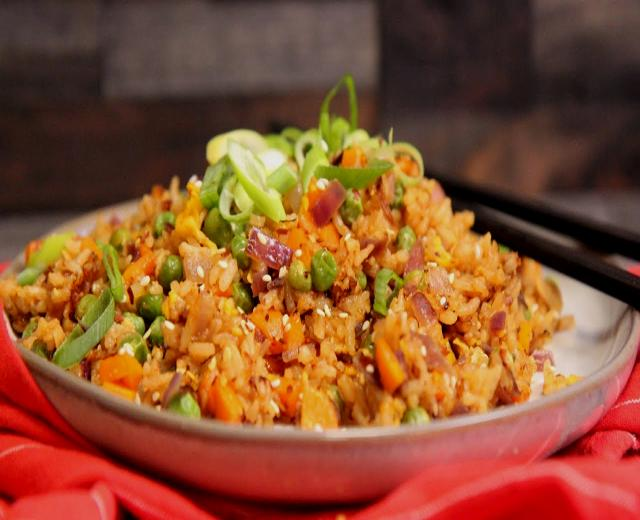fried rice: (0, 77, 585, 431)
